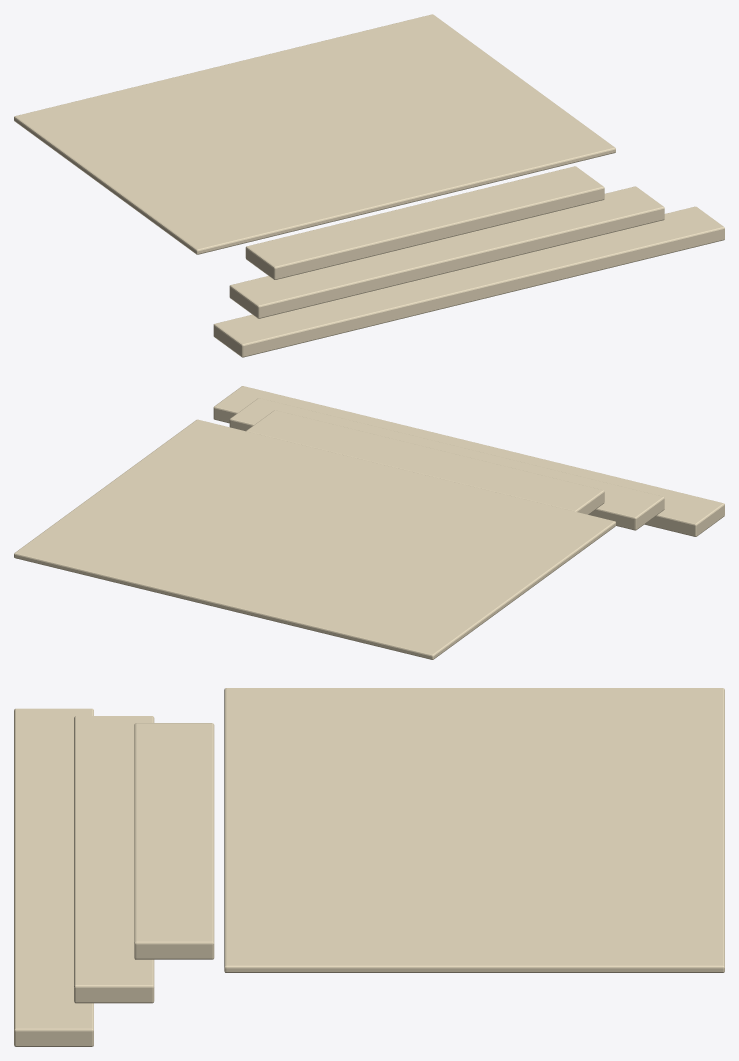
File: Stage_Trim.fbx
3 views of the same model, one above another, from view 1: azimuth 30°, elevation 25°; view 2: azimuth 150°, elevation 25°; view 3: azimuth 270°, elevation 25° (orthographic). The views are drawn at different scales.
Parts seen in each view (by area): view 1: StageStep0.001; view 2: StageStep0.001; view 3: StageStep0.001.
Boxes of the visible parts, <box> form: StageStep0.001: <box>14,14,724,357</box>; StageStep0.001: <box>14,386,724,659</box>; StageStep0.001: <box>14,688,724,1046</box>.
Bounding box in the file's own units: 3800 × 330 × 3550.
